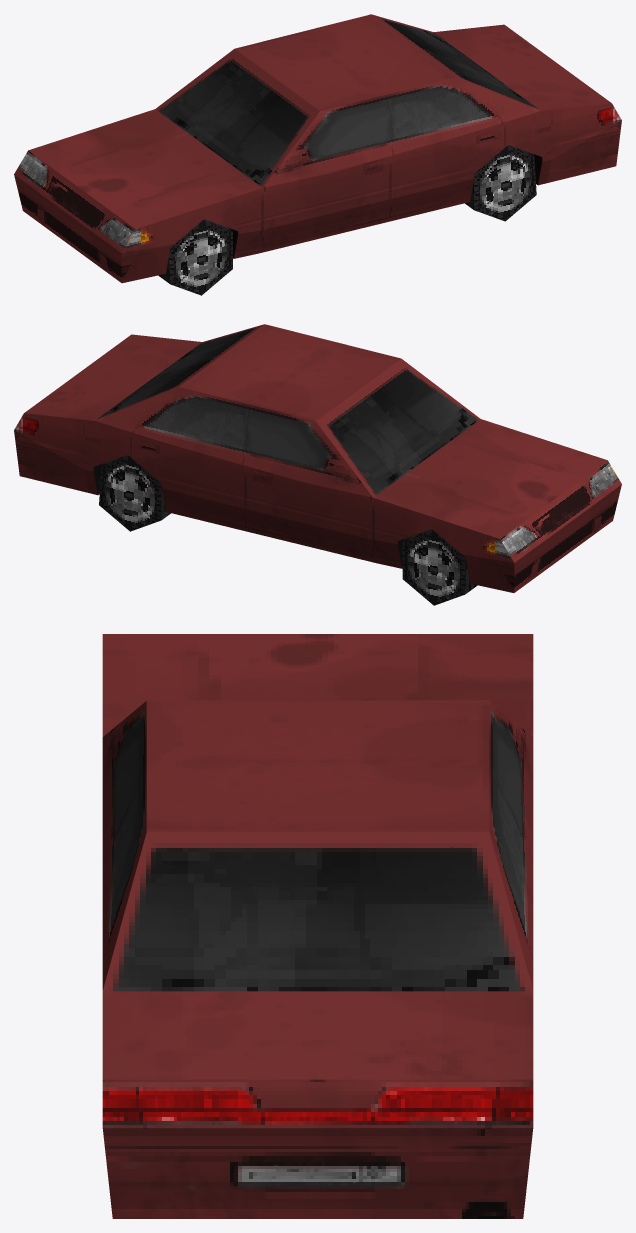
The model's file is car_02.glb.
3 views of the same model, one above another, from view 1: azimuth 30°, elevation 25°; view 2: azimuth 150°, elevation 25°; view 3: azimuth 270°, elevation 25° (orthographic). The views are drawn at different scales.
Visible parts, largest first — view 1: Plane; view 2: Plane; view 3: Plane.
Boxes of the visible parts, left/top/right/bottom form: Plane: left=14, top=14, right=621, bottom=295; Plane: left=14, top=324, right=621, bottom=605; Plane: left=102, top=634, right=533, bottom=1218.
Bounding box in the file's own units: 4.46 × 1.26 × 1.66.
1 material, 1 textured.
